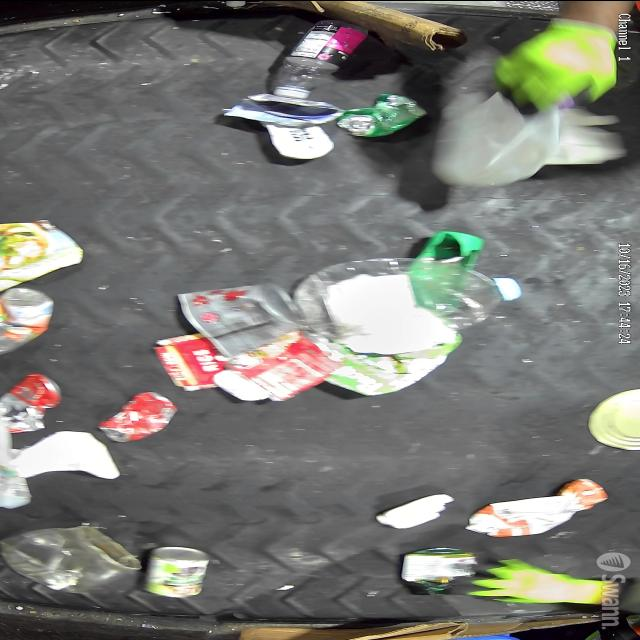can: (179, 279, 295, 359), (336, 88, 428, 142), (99, 390, 179, 443), (0, 285, 61, 353), (142, 545, 218, 599), (2, 372, 64, 436)
plastic_bottle: (297, 255, 521, 352), (269, 21, 367, 100)
